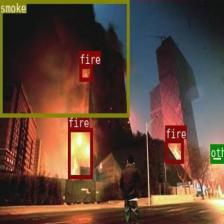fire: (68, 128, 92, 178), (165, 138, 183, 162), (79, 64, 92, 81)
smoke: (0, 0, 129, 117)
